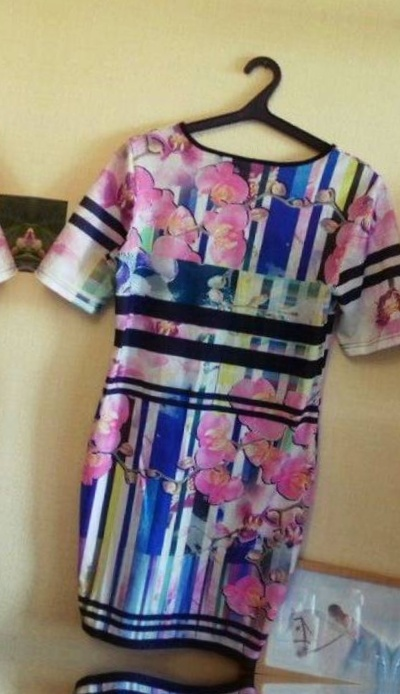Dress: (0, 70, 400, 673), (0, 27, 36, 630), (0, 662, 387, 694), (390, 110, 400, 694)
